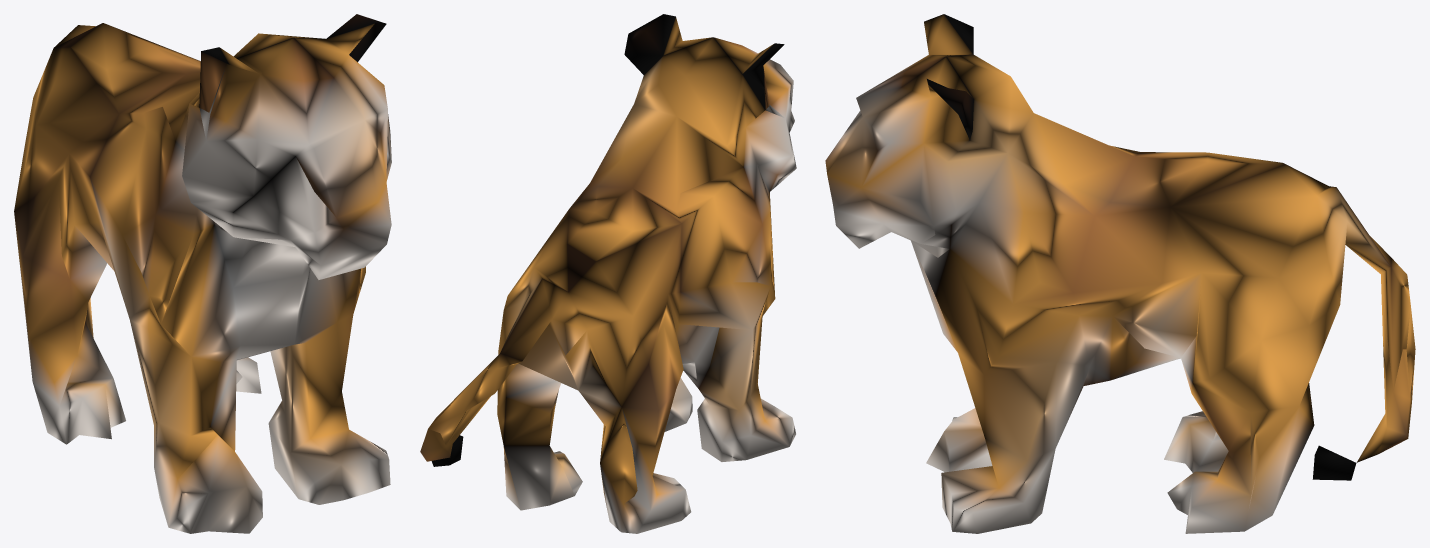
The model's file is gen3d-tiger-standing-cartoon-lod1.glb.
The picture shows the model from 3 angles, left to right: view 1: azimuth 30°, elevation 25°; view 2: azimuth 150°, elevation 25°; view 3: azimuth 270°, elevation 25°; orthographic projection. The views are drawn at different scales.
Visible parts, largest first — view 1: part_0; view 2: part_0; view 3: part_0.
Boxes of the visible parts, box(x1,y1,x2,y2) form: part_0: box(14, 14, 391, 533); part_0: box(420, 14, 796, 533); part_0: box(825, 14, 1415, 533).
Bounding box in the file's own units: 0.5272 × 0.9986 × 1.21.
